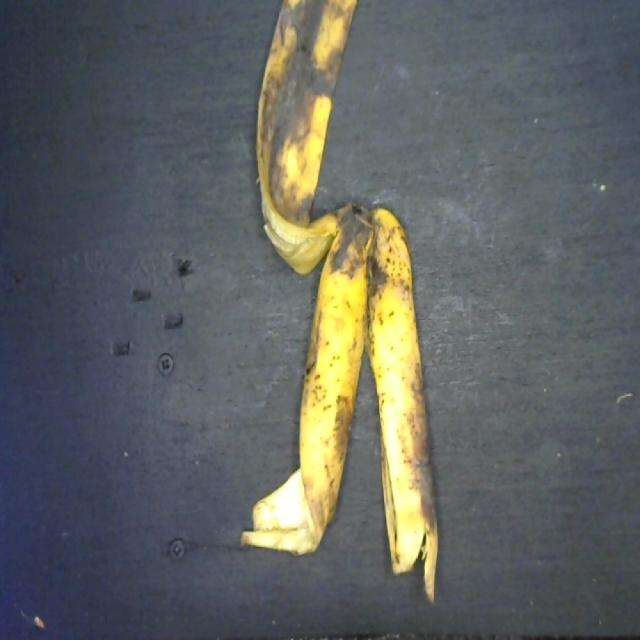biodegradable: (236, 3, 447, 617)
